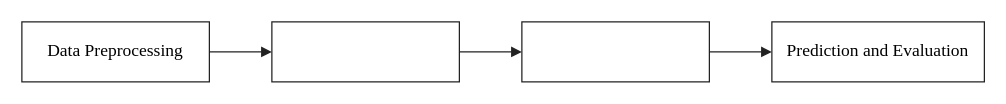
This 1006x104 diagram has some shape labels left out. Each missing label, with the centre of its shape:
Feature Engineering: the point at 365,51
Model Training: the point at 615,51
